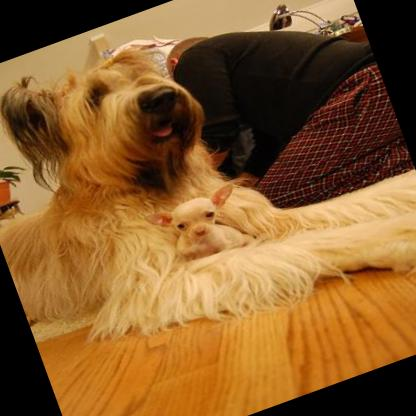briard: (0, 0, 416, 408)
